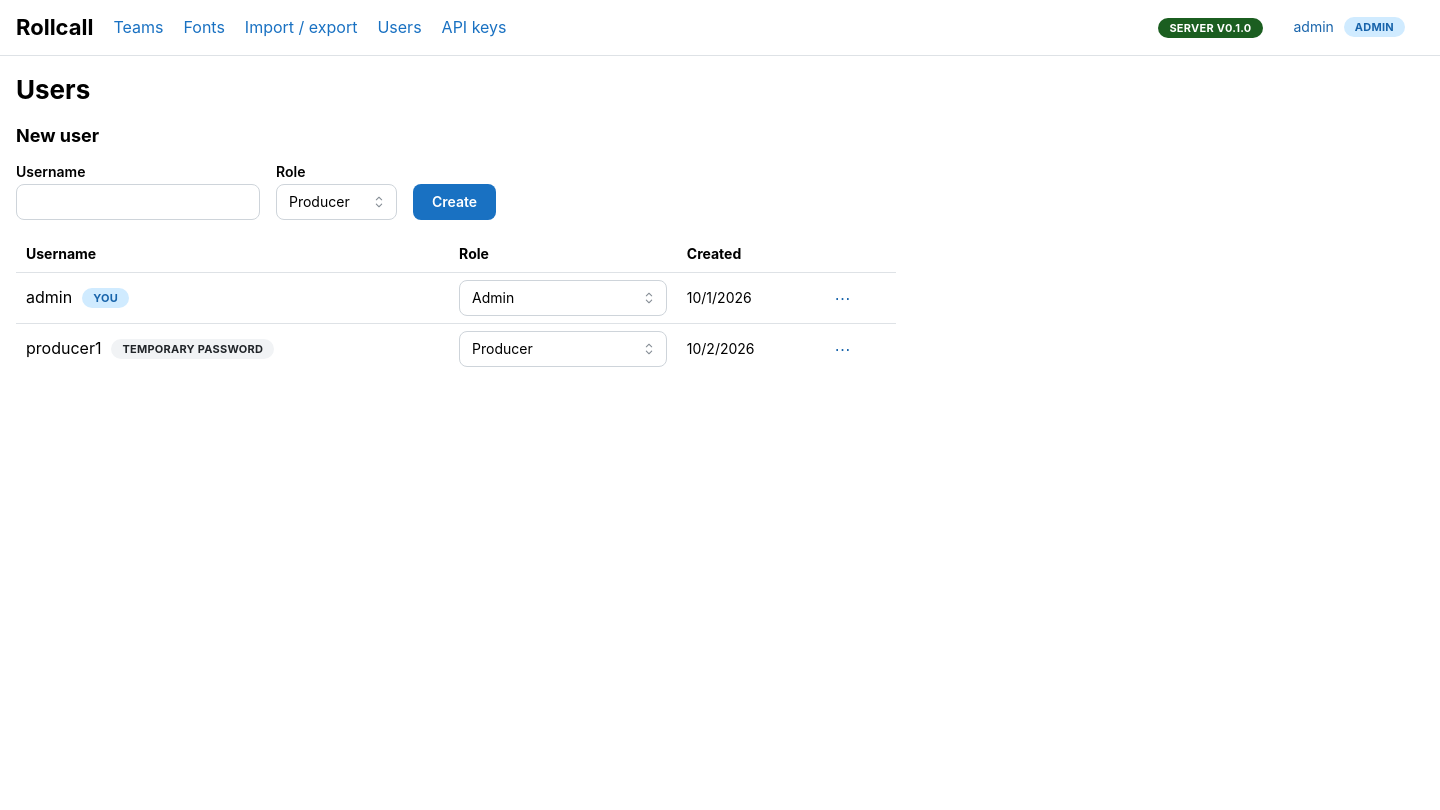
Test case: the Users page › offers a Copy button where the browser allows copying
The width and height of the screenshot is (1440, 810).
Expected: the text "producer1" is shown, [26,336,101,361]
Type "announcer1" into the field labelled "Username" at coordinates (138, 202), box [16,184,260,220]
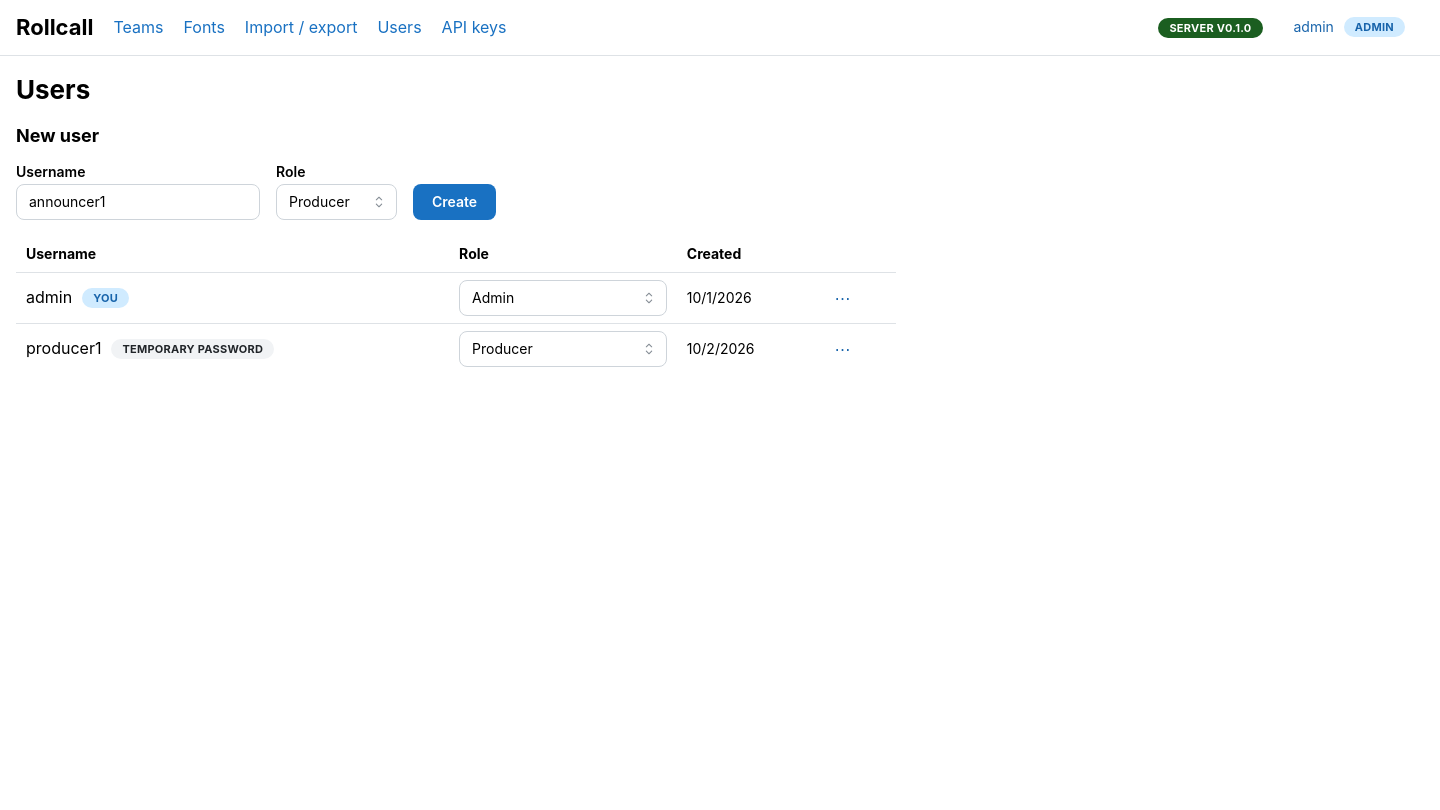
Click the button "Create" at coordinates (455, 202), box [413,184,496,220]
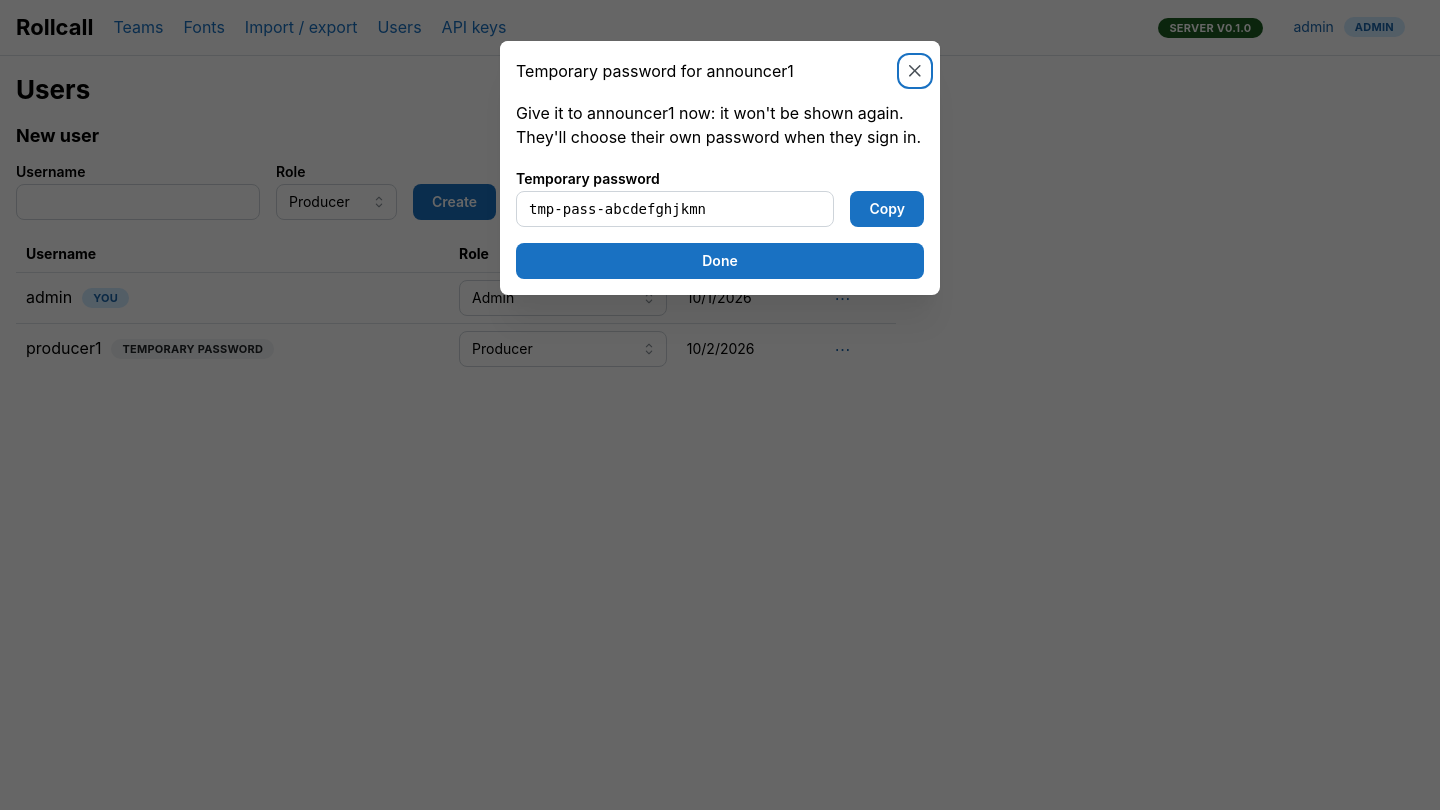
Click the button "Copy" at coordinates (887, 209), box [850,191,924,227]
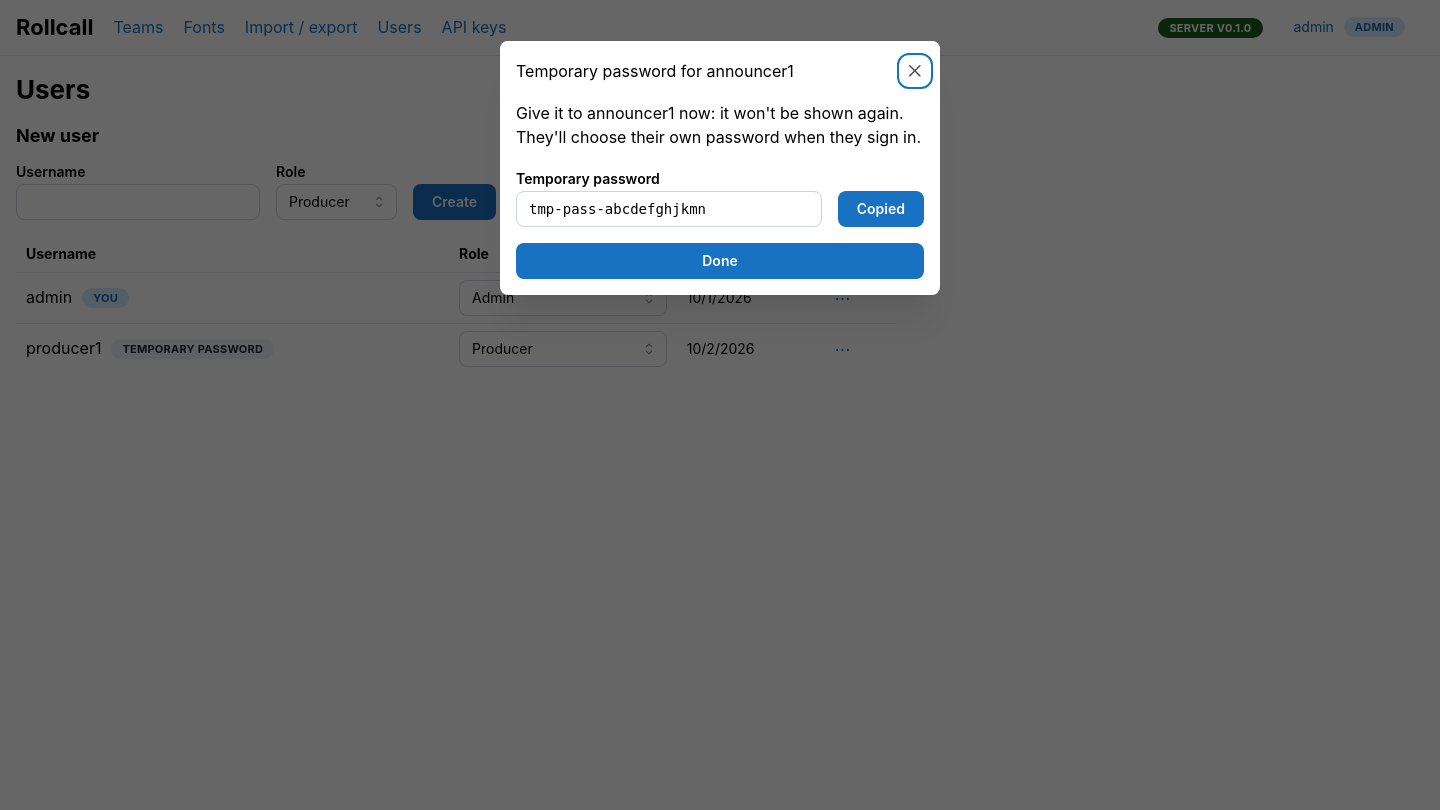
Expected: the button "Copied" is shown, [838,191,924,227]
